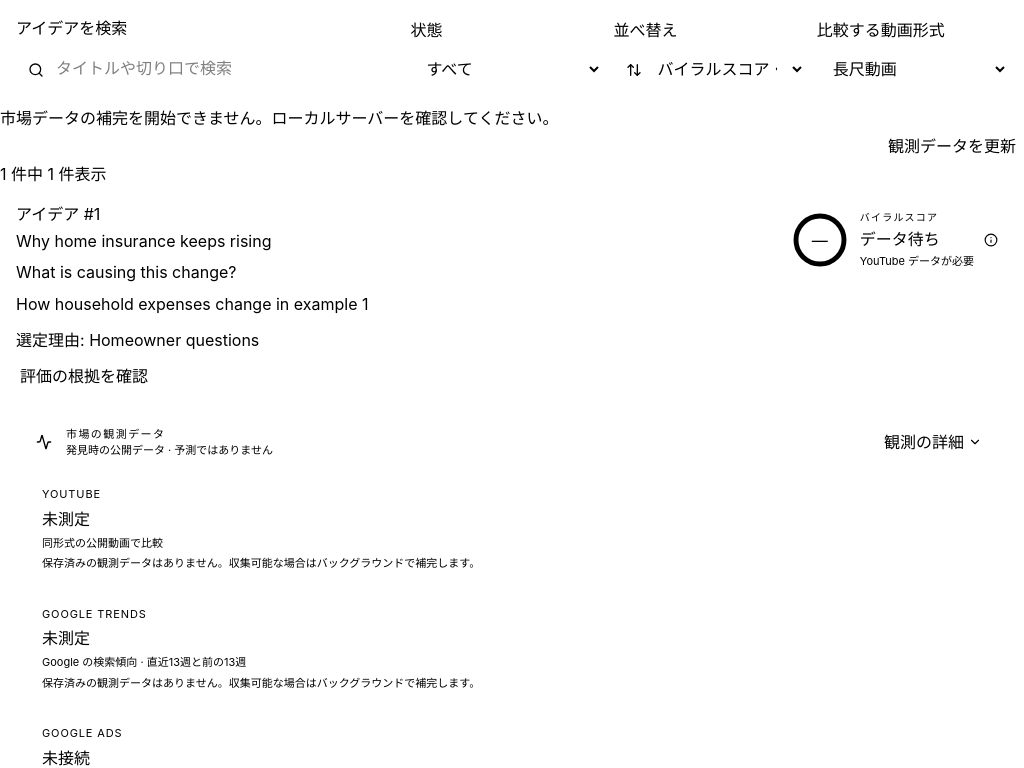
Test: Select idea › opens the current evidence popover in Japanese without promoting legacy readiness
Click the button with aria-label "バイラルスコア: データ不足".
click(893, 240)  # box [778, 202, 1008, 278]
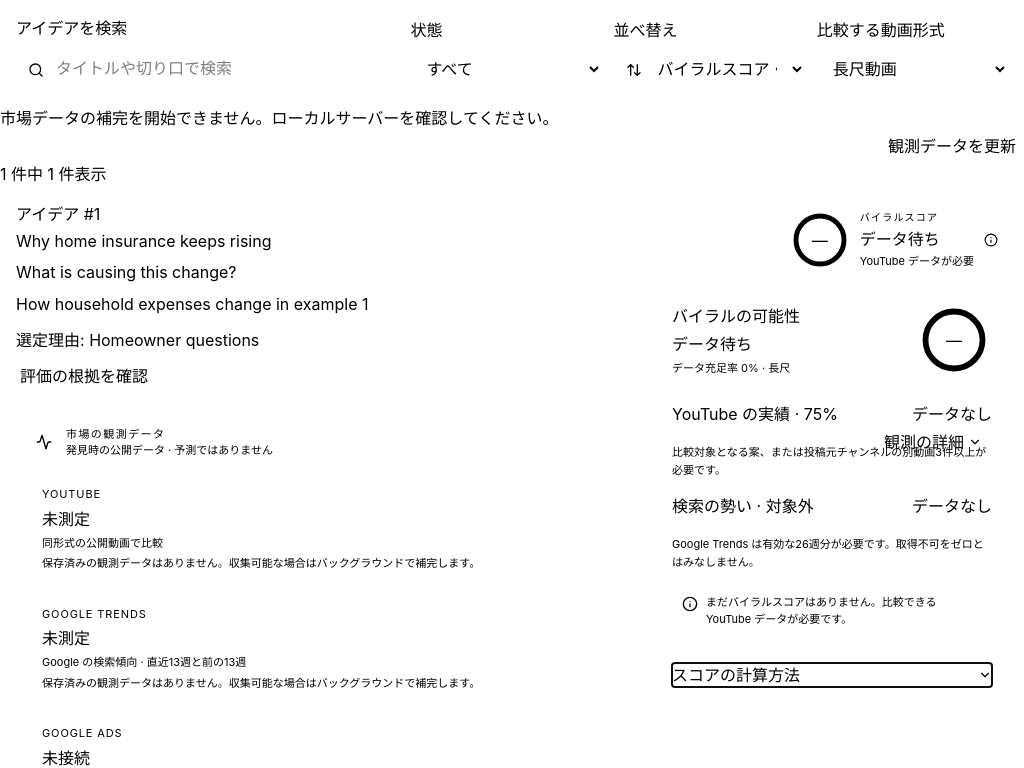
Result: the dialog named "バイラルスコアの根拠" is shown at [656, 286, 1008, 703]
